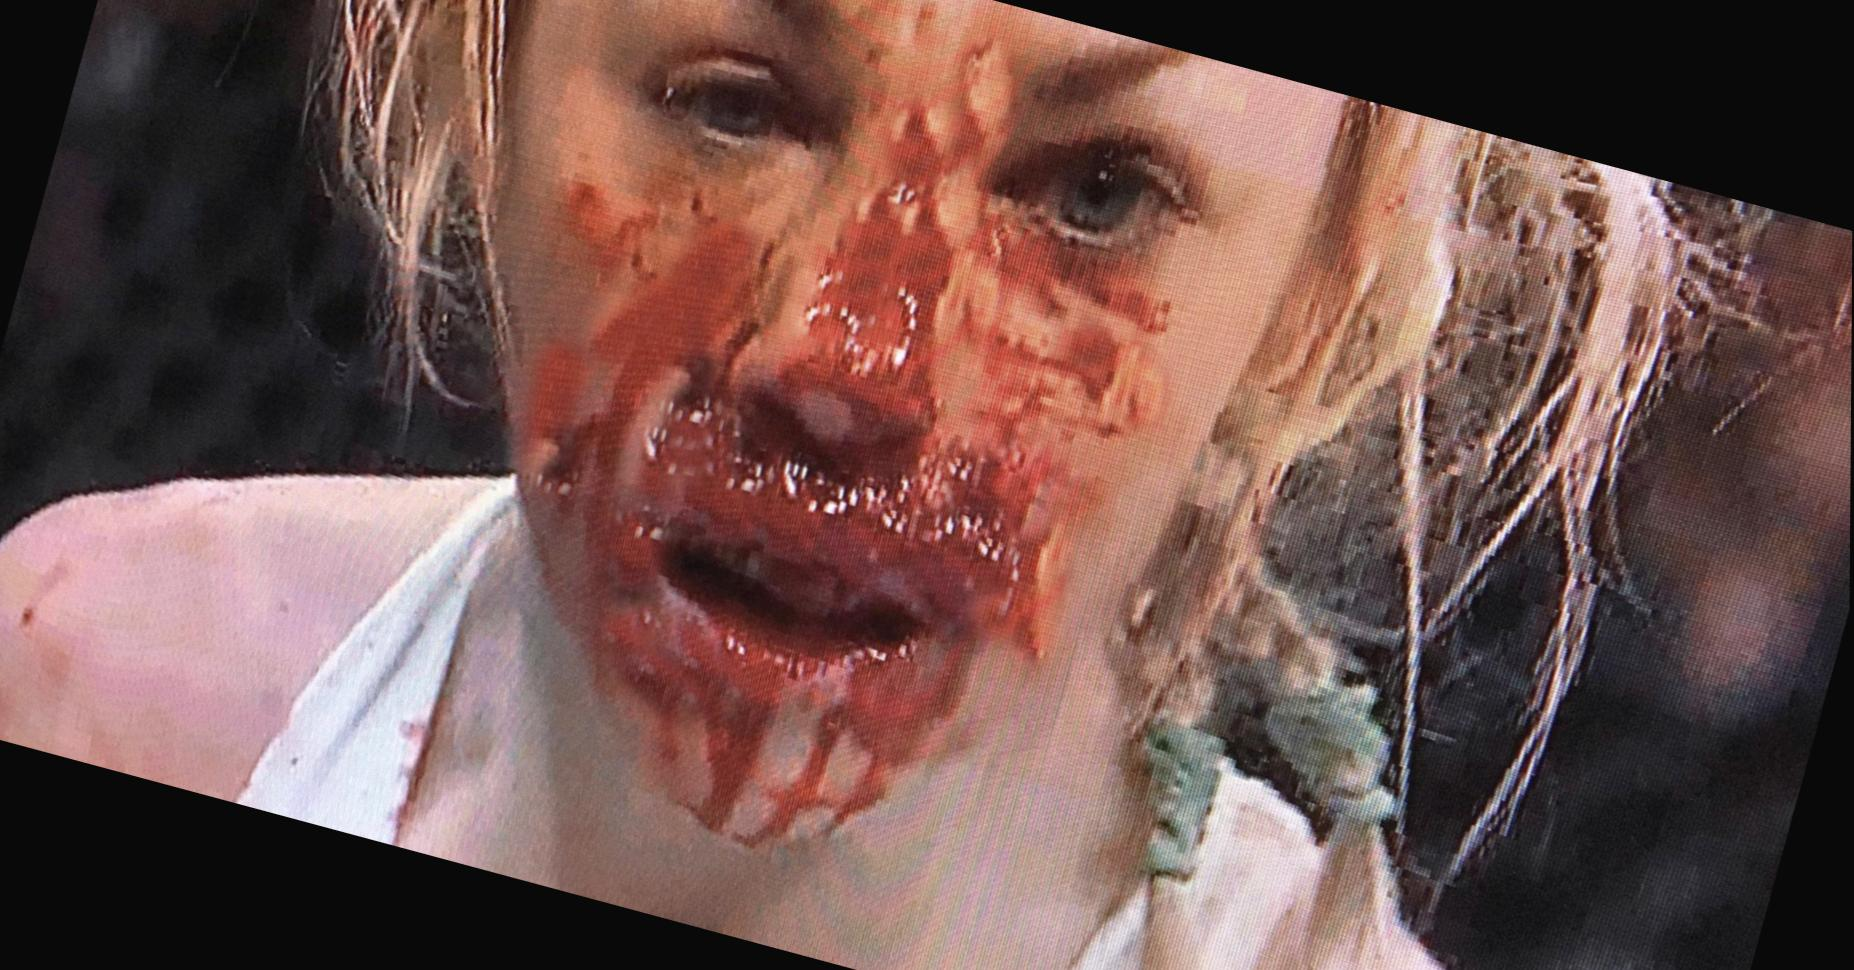Fire: (517, 0, 1203, 846)
